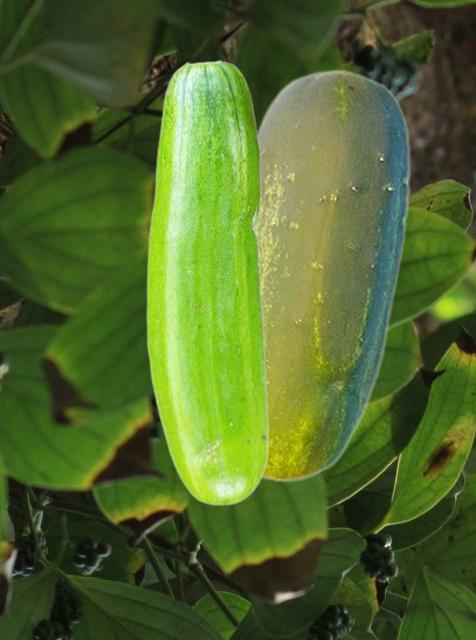cucumber: (257, 68, 409, 482), (146, 59, 268, 505)
